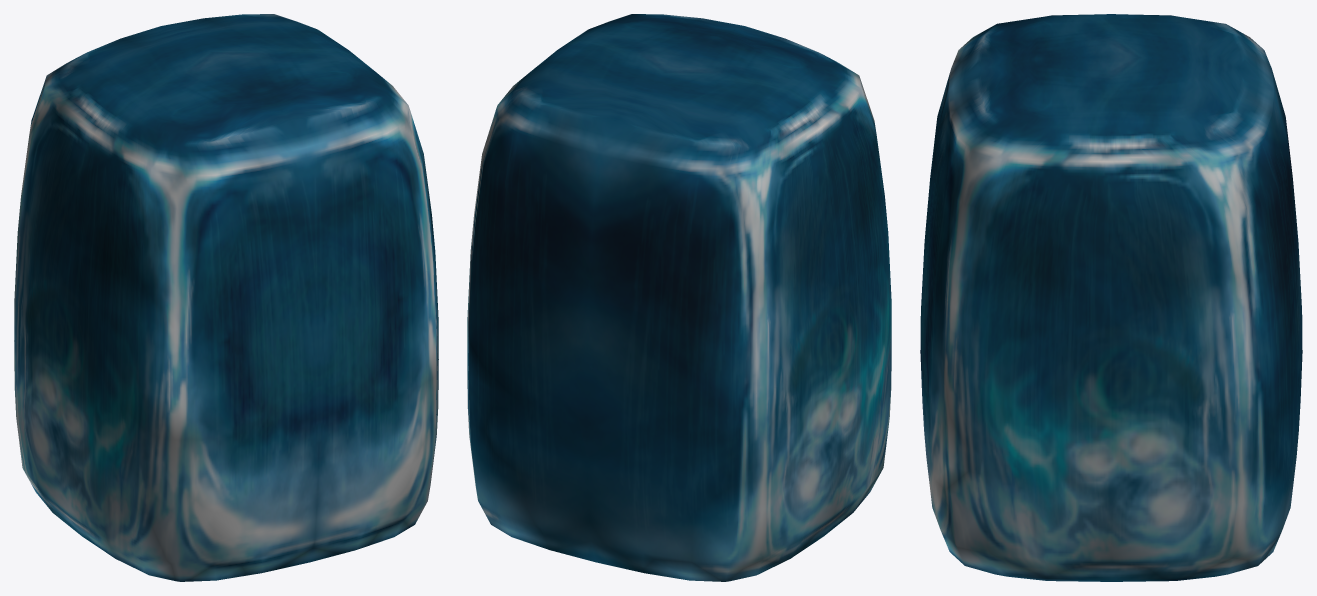
The model's file is Gelatinous Wall.fbx.
The picture shows the model from 3 angles, left to right: view 1: azimuth 30°, elevation 25°; view 2: azimuth 150°, elevation 25°; view 3: azimuth 270°, elevation 25°; orthographic projection. The views are drawn at different scales.
Parts seen in each view (by area): view 1: Gel; view 2: Gel; view 3: Gel.
Boxes of the visible parts, x1,y1,x2,y2 form: Gel: (14, 14, 438, 581); Gel: (467, 14, 891, 581); Gel: (920, 14, 1302, 581).
Bounding box in the file's own units: 1108 × 1477 × 1104.
Materials: 2 (2 with a texture image).
